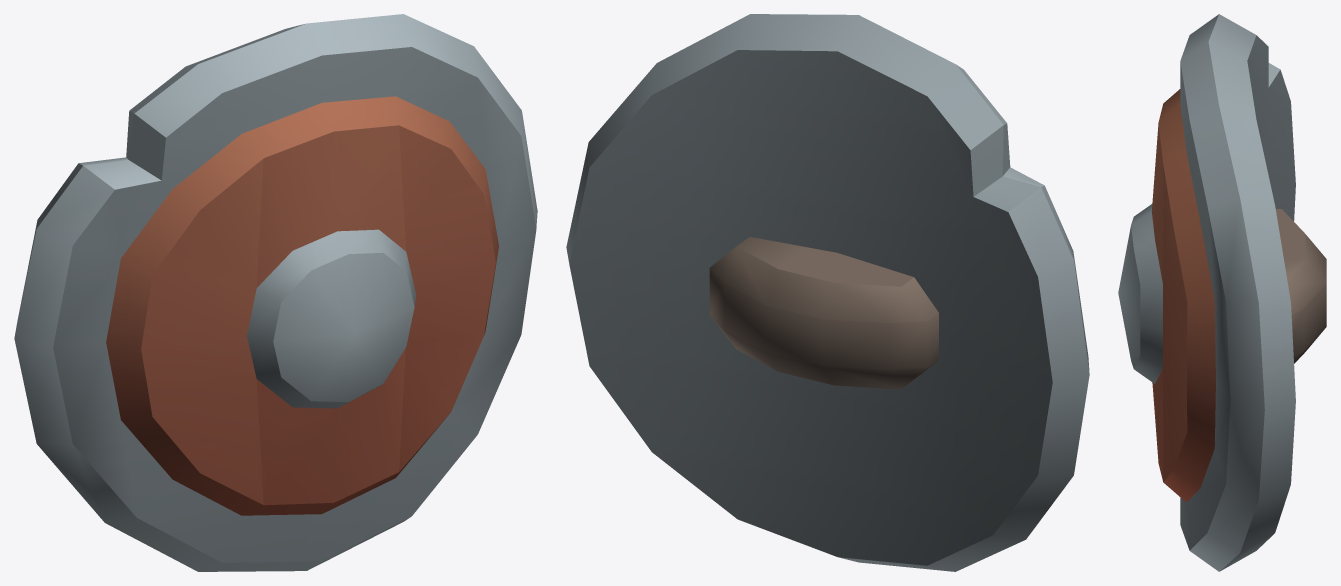
The model's file is kaykit-shield-round.glb.
3 renders of one model, left to right at view 1: azimuth 30°, elevation 25°; view 2: azimuth 150°, elevation 25°; view 3: azimuth 270°, elevation 25°, orthographic. The views are drawn at different scales.
Parts seen in each view (by area): view 1: kaykit-shield-round; view 2: kaykit-shield-round; view 3: kaykit-shield-round.
Part boxes in pixels (bbox=[...]): kaykit-shield-round: bbox=[14, 14, 537, 571]; kaykit-shield-round: bbox=[566, 14, 1089, 571]; kaykit-shield-round: bbox=[1118, 14, 1326, 571].
Size of the model in its own units: 0.662 by 0.662 by 0.249.
Materials: 1 (1 with a texture image).
